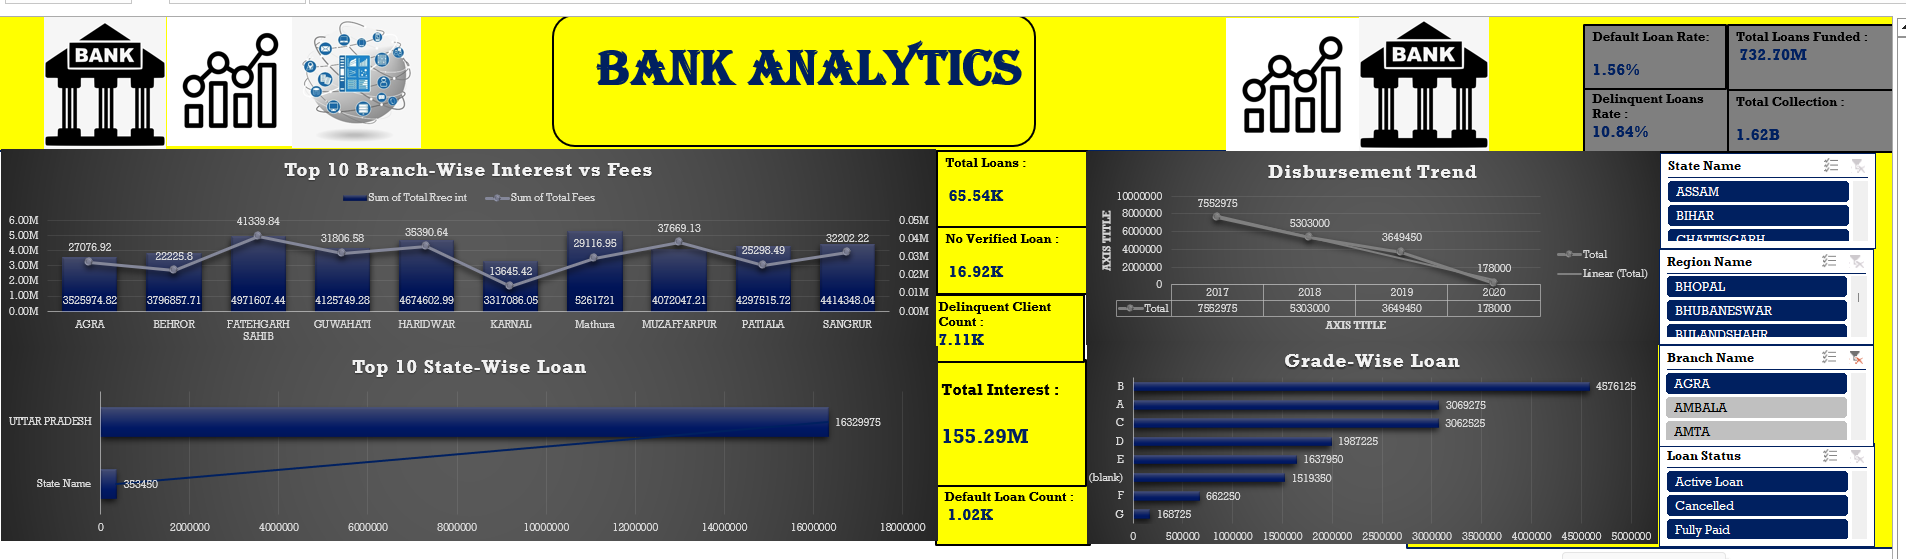

This screenshot's page, from the dashboard's own definition file:
{"tool":"tableau","page":{"name":"Main Dashboard","canvas":[1000,1000],"units":"permille","ordinal":5},"visuals":[{"type":"title","box":[4.8,10,990.3,96.1]},{"type":"image","param":"Image/[number redacted].jpg","box":[7.2,12.9,61.6,77.6]},{"type":"image","param":"Image/pngimg.com - piggy_bank_PNG52.png","box":[933.6,16,56.7,72.2]},{"type":"image","param":"Image/web-icon-logo-A6B586D114-seeklogo.com.png","box":[654.2,18.3,81.5,68.7]},{"type":"worksheet","title":"Card 4","mark":"Automatic","box":[387,115.4,139.8,95]},{"type":"worksheet","title":"Card 1","mark":"Automatic","box":[4.4,116.6,114.9,97.4]},{"type":"worksheet","title":"Card 2","mark":"Automatic","box":[127.3,116.6,123.6,96.2]},{"type":"worksheet","title":"Card 3","mark":"Automatic","box":[259.6,116.6,118.6,96.2]},{"type":"filter","title":"KPI 1","param":"[federated.1k56wus0ylsigh151kcn31l94zhr].[none:Purpose:nk]","box":[767.1,116.6,102.5,92.5]},{"type":"filter","title":"KPI 2","param":"[federated.1k56wus0ylsigh151kcn31l94zhr].[none:Grade:nk]","box":[653.4,117.8,100.6,91.4]},{"type":"parameter","param":"[Parameters].[Parameter 1]","box":[883.9,117.8,106.8,88.9]},{"type":"filter","title":"KPI 1","param":"[federated.1k56wus0ylsigh151kcn31l94zhr].[none:Loan_Status:nk]","box":[539.1,119,98.8,91.4]},{"type":"worksheet","title":"KPI 1","mark":"Bar","rows":["Loan_Amnt"],"cols":["Issue_D"],"box":[4.8,222.2,333.1,327.6]},{"type":"dashboard-object","box":[7.9,223.4,20.5,36.7]},{"type":"dashboard-object","box":[348.8,223.4,26.6,36.7]},{"type":"worksheet","title":"KPI 2","mark":"Bar","rows":["Revol_Bal"],"cols":["Grade","Sub_Grade"],"box":[346,223.6,645.9,326.9]},{"type":"dashboard-object","box":[10.8,226.8,31.3,36.4]},{"type":"worksheet","title":"KPI 3","mark":"Pie","rows":["Calculation_814025687453990912","Calculation_814025687453990912"],"box":[345.8,560.1,240.8,433]},{"type":"worksheet","title":"KPI 5","mark":"Automatic","box":[590.8,560.1,400.7,430.7]},{"type":"dashboard-object","box":[595.6,562.4,17.5,32.1]},{"type":"worksheet","title":"KPI 4","mark":"Automatic","rows":["Last_Credit_Pull_D","Loan_Status"],"cols":["Addr_State"],"box":[7.2,563.6,328.9,428.4]},{"type":"dashboard-object","box":[14.5,573.9,22.3,36.7]},{"type":"dashboard-object","box":[342.8,589.9,24.7,30.9]}]}

Visuals, with their boxes on the dashboard's canvas, which has no fixed pixel size, in thousandths of its width and height (x1, y1, x2, y2). These are canvas units, not pixel positions in the 1906x559 screenshot, which may show the page scaled, cropped or inside an application window:
title: (5,10,995,106)
image: (7,13,69,90)
image: (934,16,990,88)
image: (654,18,736,87)
"Card 4" worksheet: (387,115,527,210)
"Card 1" worksheet: (4,117,119,214)
"Card 2" worksheet: (127,117,251,213)
"Card 3" worksheet: (260,117,378,213)
"KPI 1" filter: (767,117,870,209)
"KPI 2" filter: (653,118,754,209)
parameter: (884,118,991,207)
"KPI 1" filter: (539,119,638,210)
"KPI 1" worksheet (Bar marks): (5,222,338,550)
dashboard-object: (8,223,28,260)
dashboard-object: (349,223,375,260)
"KPI 2" worksheet (Bar marks): (346,224,992,550)
dashboard-object: (11,227,42,263)
"KPI 3" worksheet (Pie marks): (346,560,587,993)
"KPI 5" worksheet: (591,560,992,991)
dashboard-object: (596,562,613,594)
"KPI 4" worksheet: (7,564,336,992)
dashboard-object: (14,574,37,611)
dashboard-object: (343,590,368,621)
